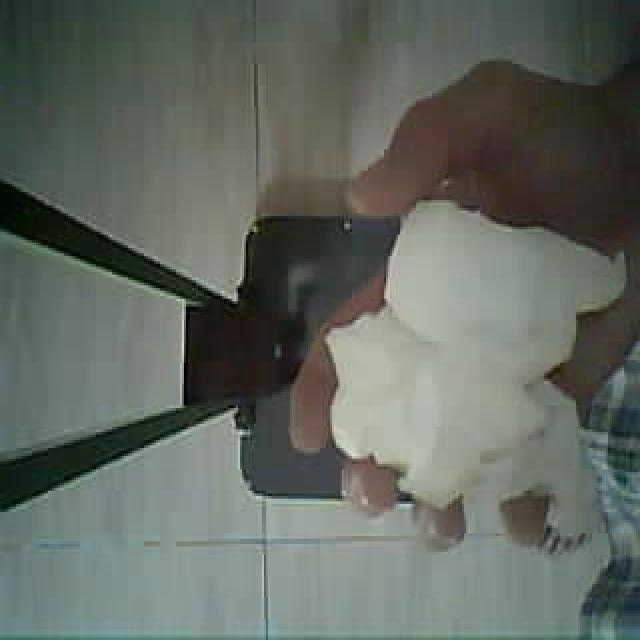Paper: (327, 187, 603, 550)
